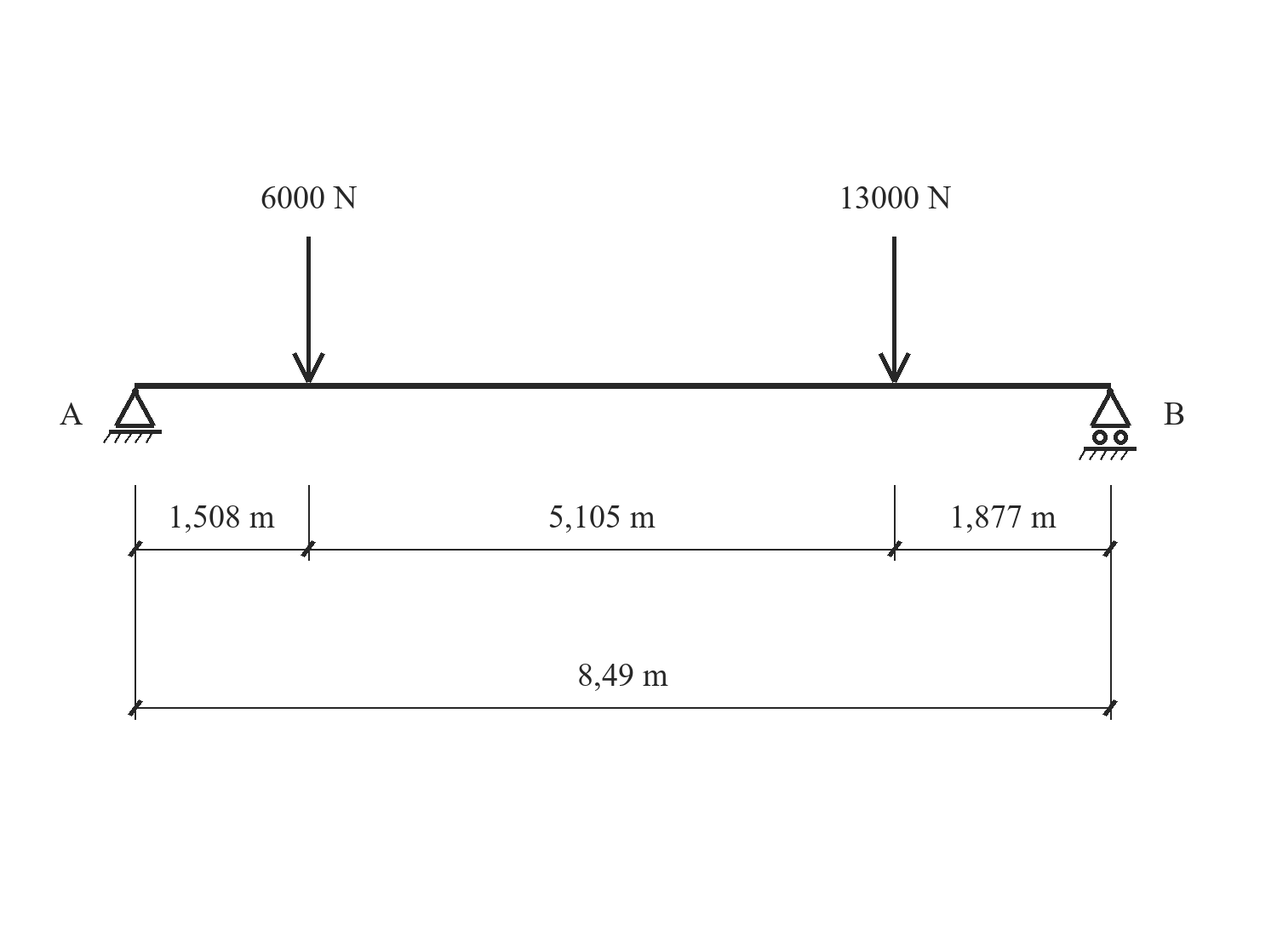pin_support: (103, 388, 162, 443)
point_load: (292, 237, 325, 383), (879, 237, 911, 383)
roller_support: (1079, 388, 1137, 460)
